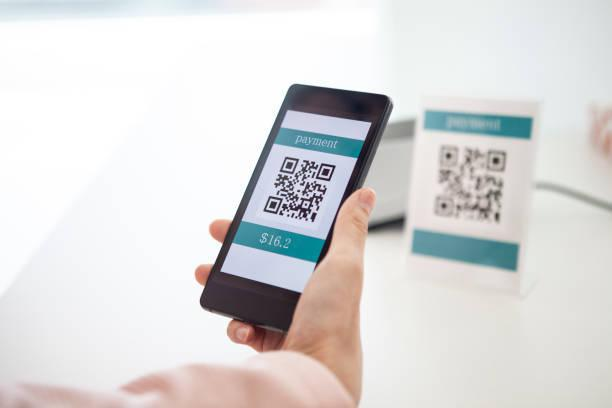Finder pattern: (482, 147, 509, 174), (433, 193, 458, 220), (437, 144, 461, 168), (262, 196, 287, 217), (278, 156, 301, 176), (314, 162, 336, 182)
